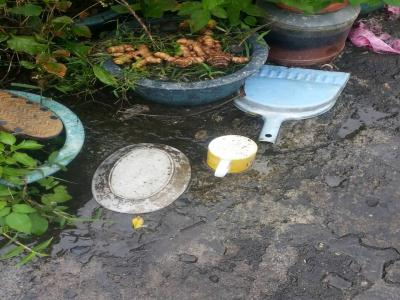bowl: (202, 129, 264, 182)
plate: (81, 137, 195, 217)
